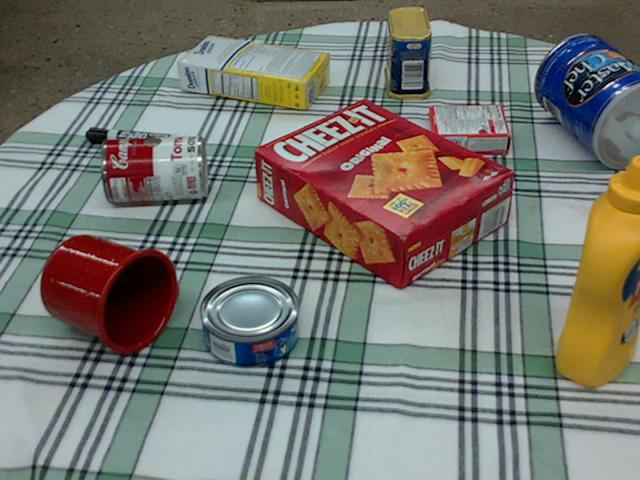cracker_box: (256, 98, 514, 287)
gelatin_box: (426, 101, 509, 156)
large_marker: (84, 127, 185, 149)
master_chef_can: (532, 35, 639, 168)
mug: (39, 234, 177, 353)
mustard_bottle: (555, 153, 639, 384)
potted_meat_can: (382, 6, 431, 99)
sugar_box: (178, 35, 330, 108)
tomato_soup_can: (100, 134, 207, 202)
tuna_fish_can: (197, 275, 298, 367)
